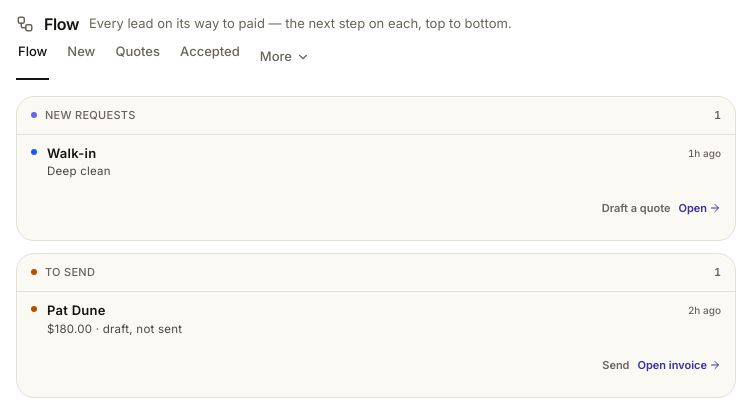
Flow in-place actions › sends an invoice only after a confirm, then clears the row
Check: the text "Pat Dune" is shown, box [47,302,106,320]
Click the button "Send". click: (616, 365)
box: [602,343,630,387]
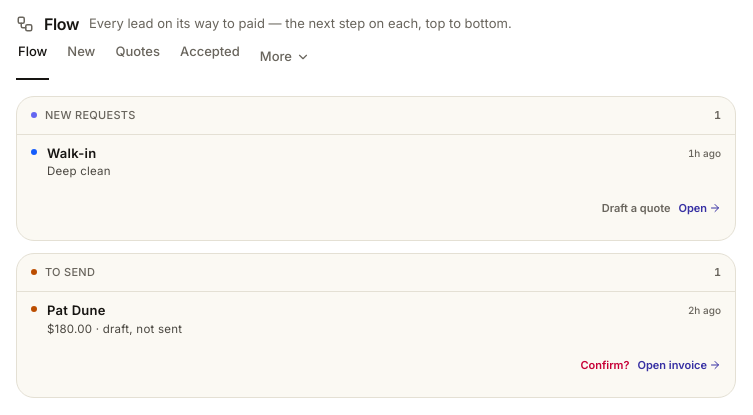
Click the button "Confirm?". click: (605, 365)
box: [580,343,630,387]
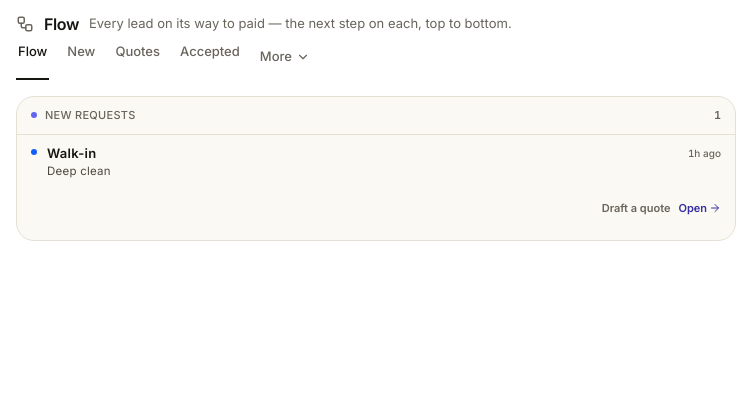
Check: the text "Pat Dune" is gone
